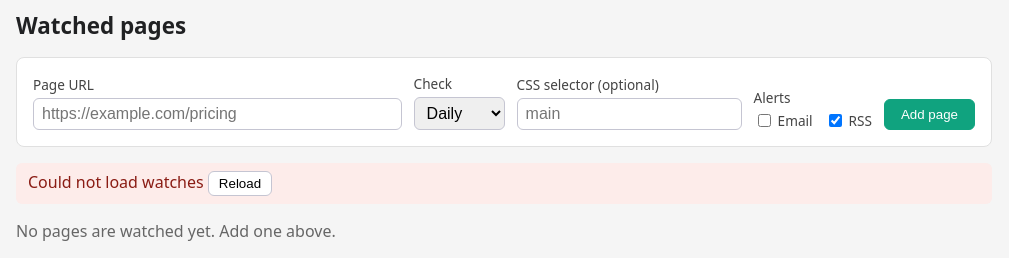
Test: a successful add clears an earlier error
Expected: the message shows "Could not load watches", top-left (28, 171), bottom-right (204, 193)
Type "https://a.test/pricing" into the field labelled "Page URL". click: (217, 114)
box: top-left (33, 98), bottom-right (402, 130)
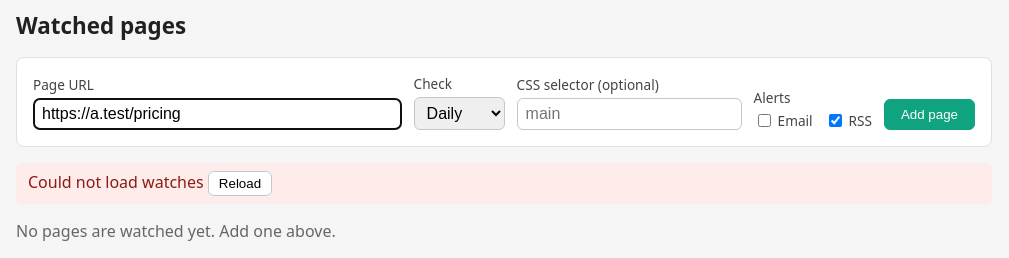
Click the button "Add page". click: click(929, 114)
box: top-left (884, 99), bottom-right (975, 130)
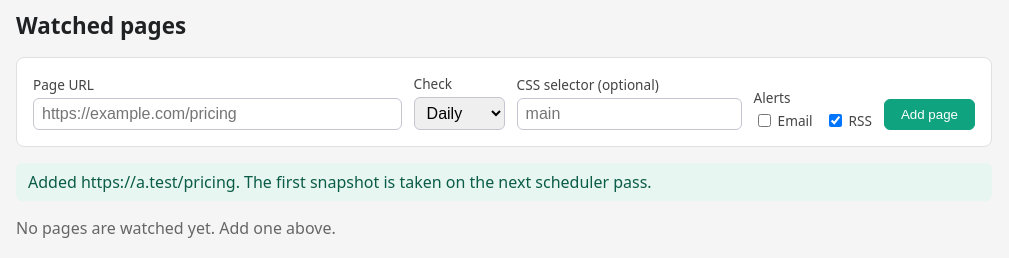
Expected: the message shows "Added https://a.test/pricing", top-left (28, 171), bottom-right (652, 193)
